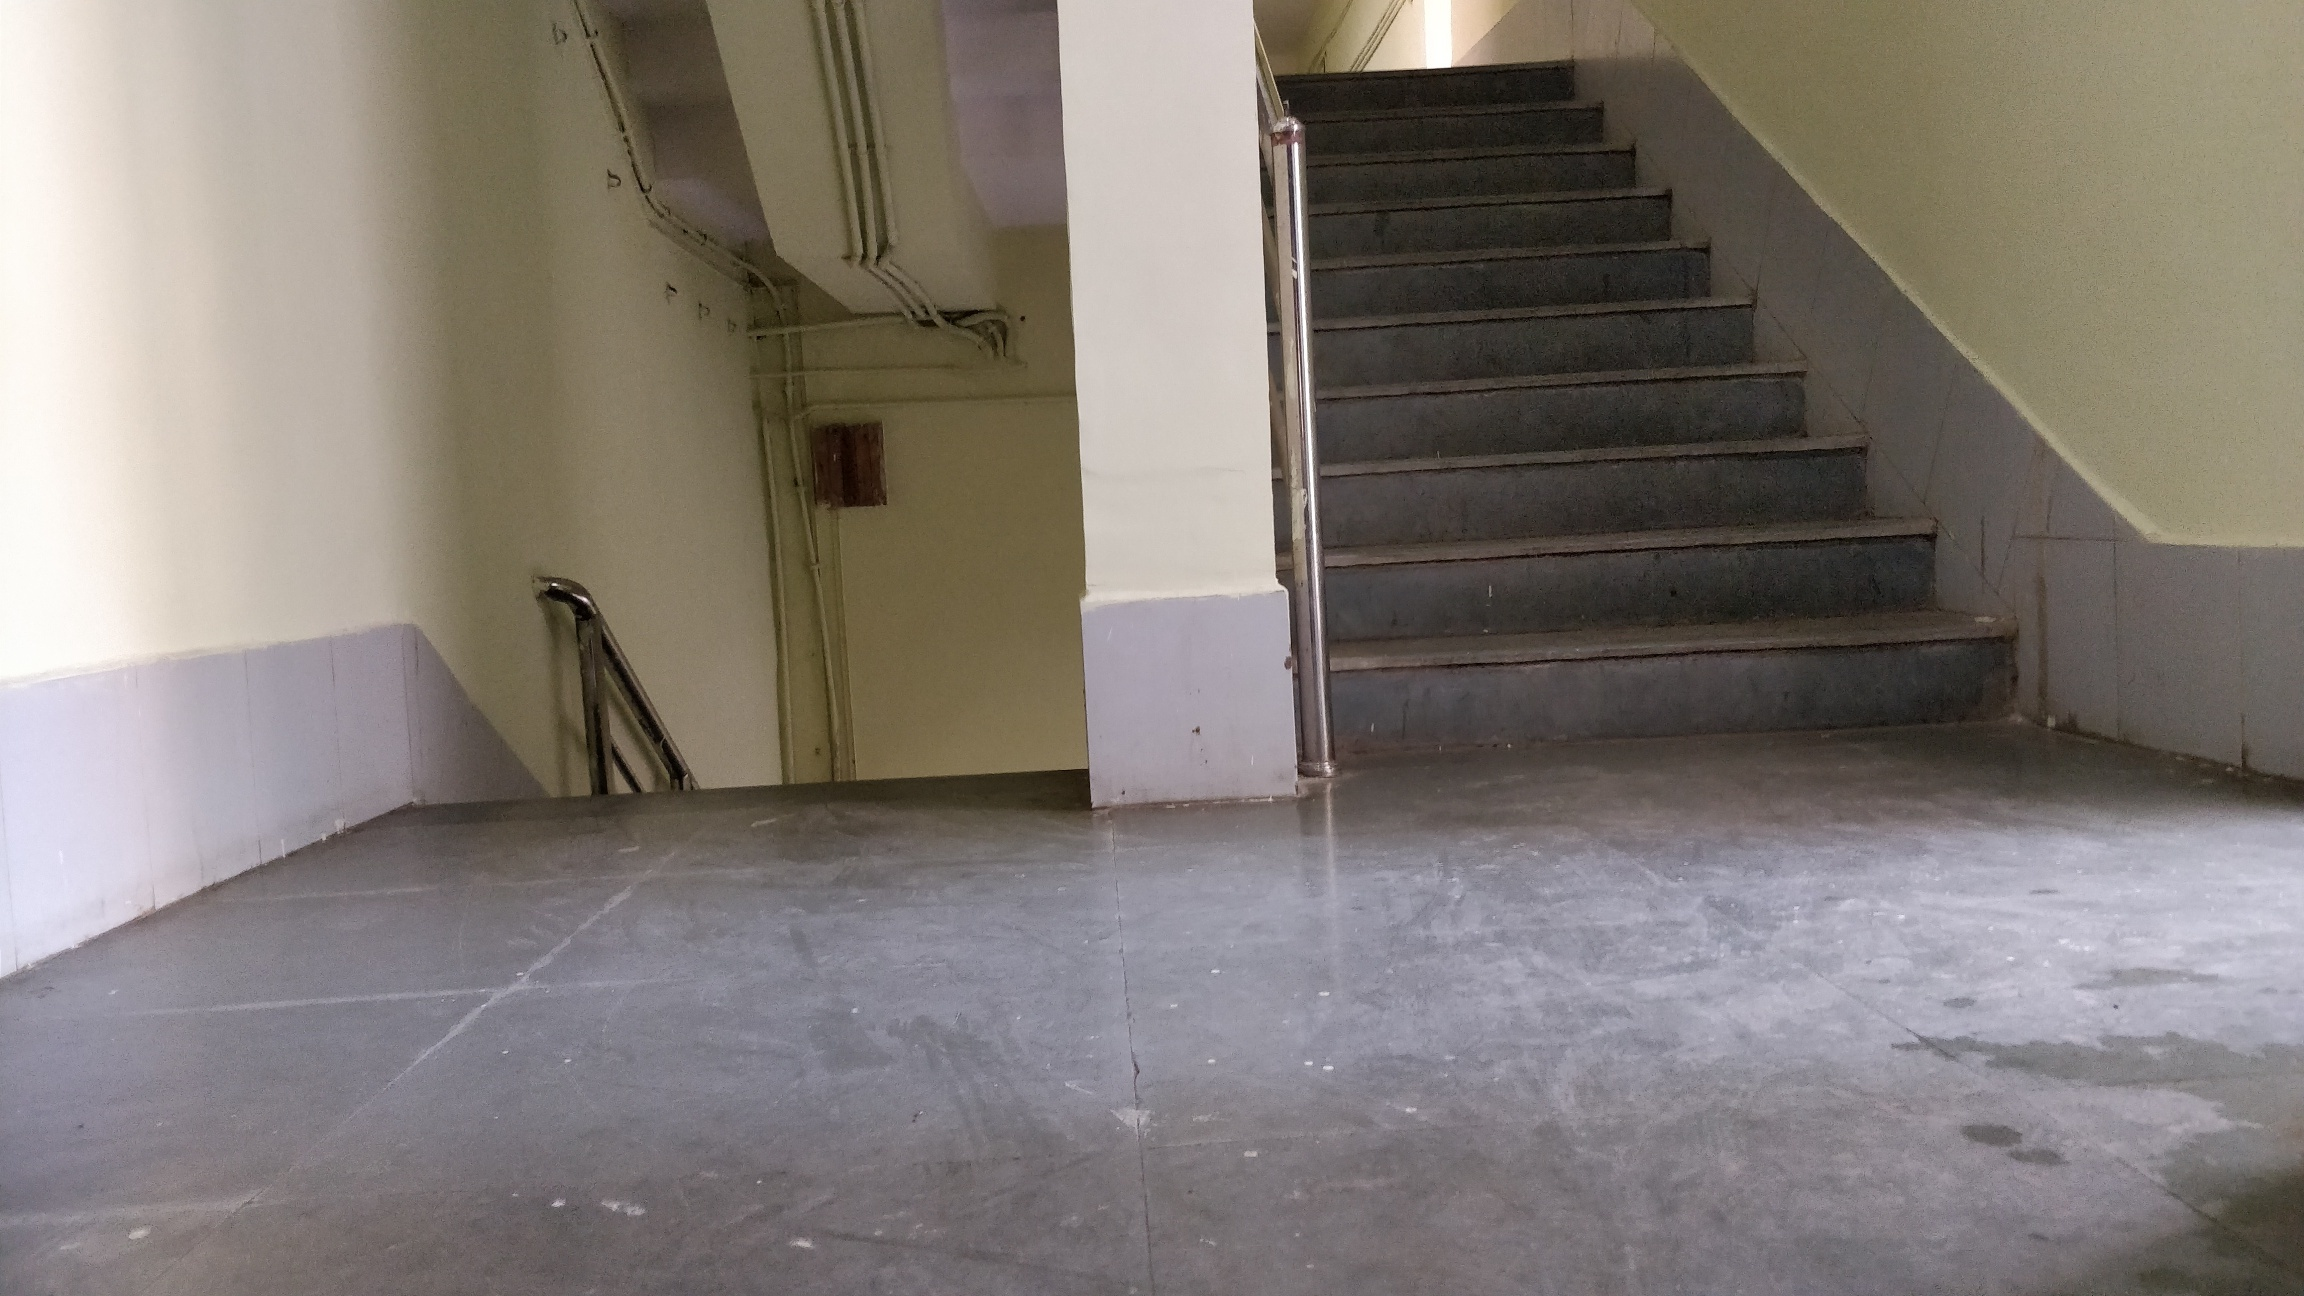stairs_up: (1277, 81, 2054, 771)
